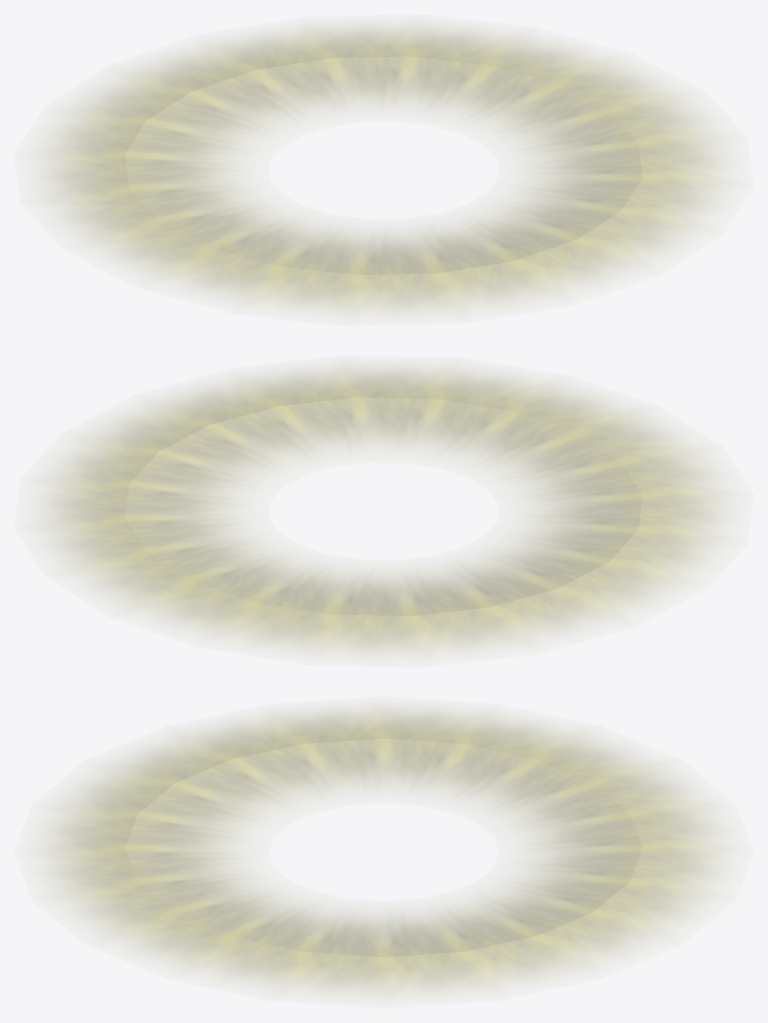
Rendered from Mist02_Art.glb.
3 renders of one model, top to bottom at view 1: azimuth 30°, elevation 25°; view 2: azimuth 150°, elevation 25°; view 3: azimuth 270°, elevation 25°, orthographic.
Parts seen in each view (by area): view 1: Mist02_Art; view 2: Mist02_Art; view 3: Mist02_Art.
Boxes of the visible parts, box(x1,y1,x2,y2) form: Mist02_Art: box(36, 23, 731, 316); Mist02_Art: box(36, 364, 731, 657); Mist02_Art: box(36, 705, 731, 998).
Bounding box in the file's own units: 2.4 × 0.0163 × 2.4.
Materials: 1 (1 with a texture image).
